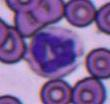N: (27, 26, 83, 78)
